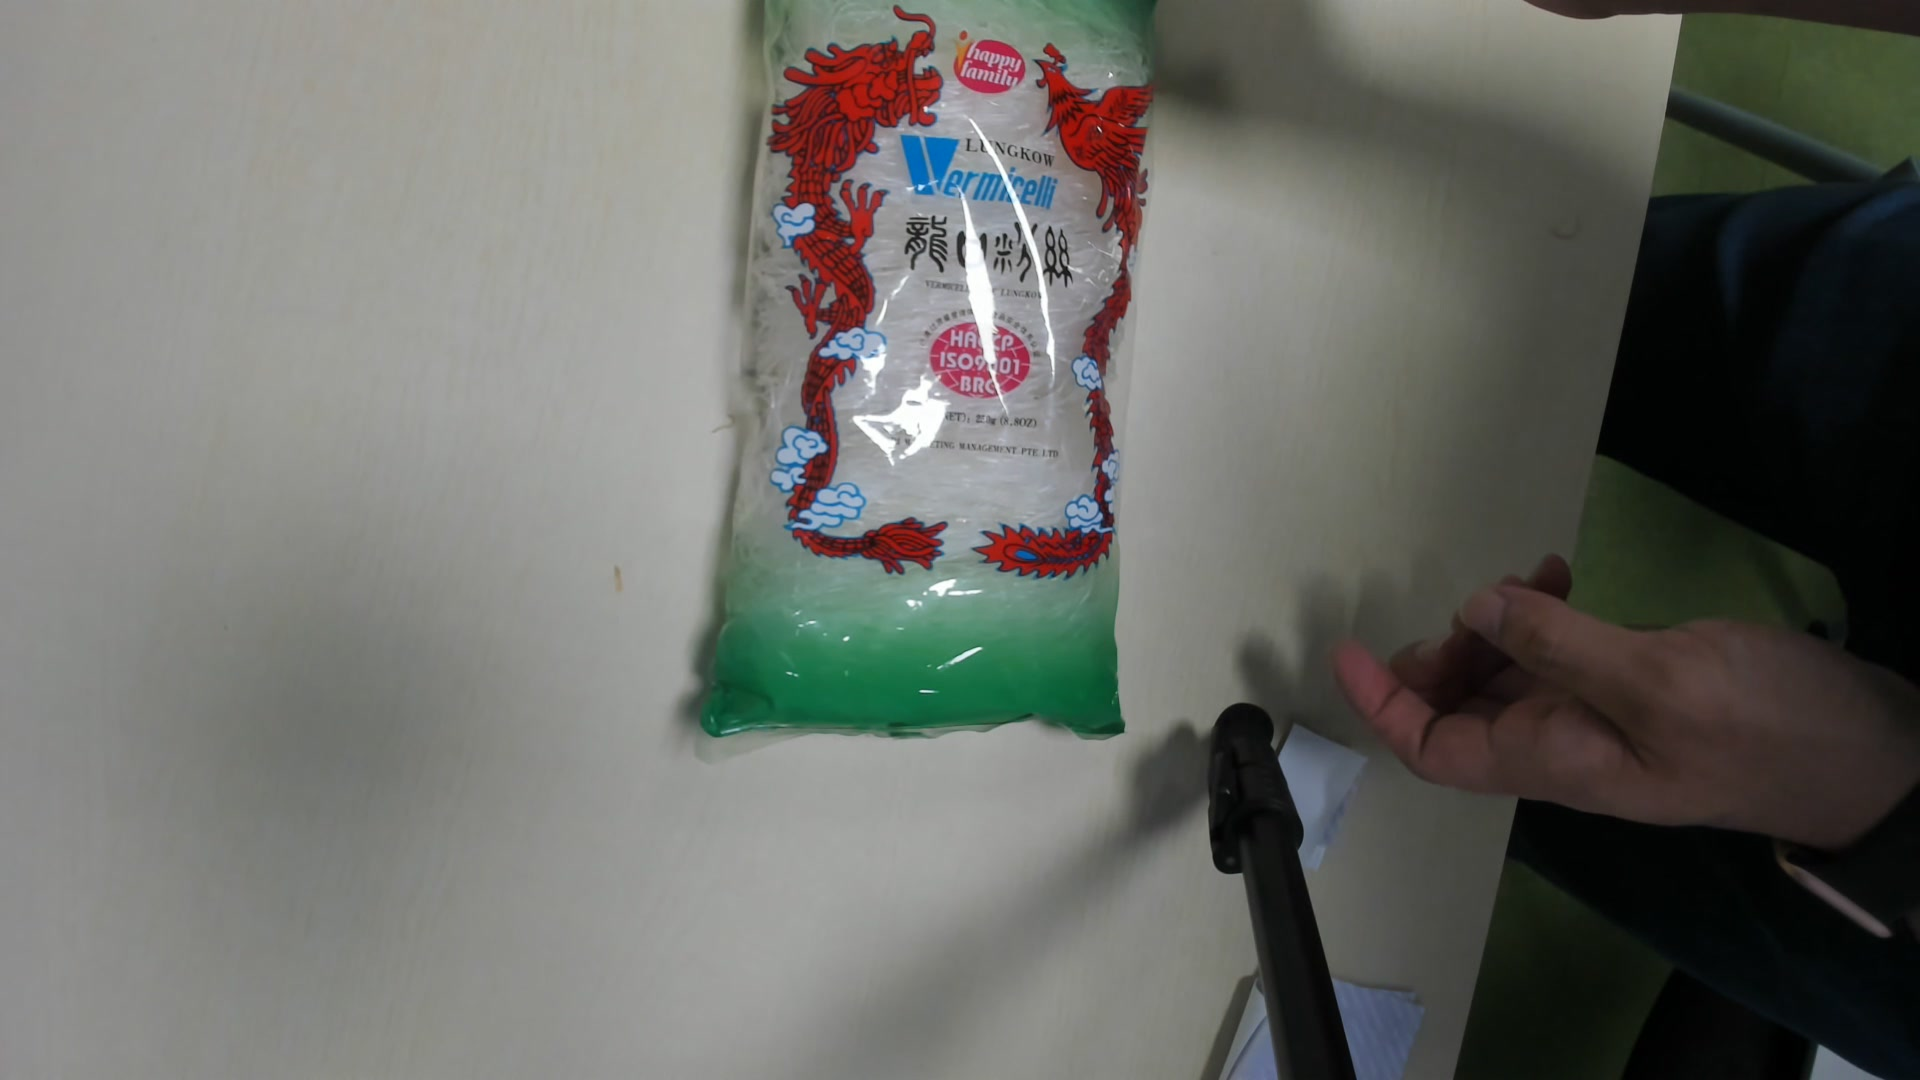BeeHoonVermicelli_200-299g_Halal_NonHealthy: (691, 7, 1146, 740)
